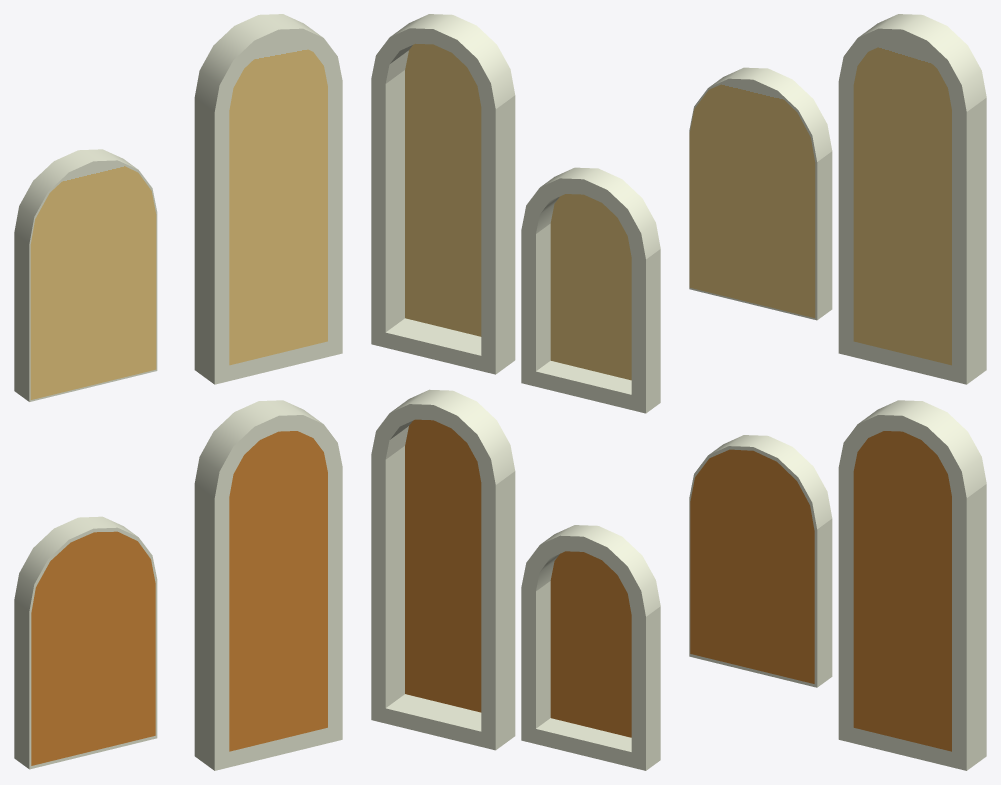
The model's file is fenetres_set_01.fbx.
3 renders of one model, left to right at view 1: azimuth 30°, elevation 25°; view 2: azimuth 150°, elevation 25°; view 3: azimuth 330°, elevation 25°, orthographic. The views are drawn at different scales.
Parts seen in each view (by area): view 1: polySurface4, polySurface1, polySurface8, polySurface6; view 2: polySurface4, polySurface1, polySurface6, polySurface8; view 3: polySurface4, polySurface1, polySurface6, polySurface8.
Part boxes in pixels (bbox=[...]): polySurface4: bbox=[194, 14, 342, 384]; polySurface1: bbox=[194, 400, 342, 770]; polySurface8: bbox=[14, 149, 157, 401]; polySurface6: bbox=[14, 516, 157, 769]; polySurface4: bbox=[371, 14, 515, 374]; polySurface1: bbox=[371, 389, 515, 750]; polySurface6: bbox=[521, 525, 660, 770]; polySurface8: bbox=[521, 167, 660, 413]; polySurface4: bbox=[838, 14, 986, 384]; polySurface1: bbox=[838, 400, 986, 770]; polySurface6: bbox=[689, 435, 832, 687]; polySurface8: bbox=[689, 67, 832, 320].
Bounding box in the file's own units: 4.7 × 11.04 × 0.91.
Materials: 1 (1 with a texture image).
